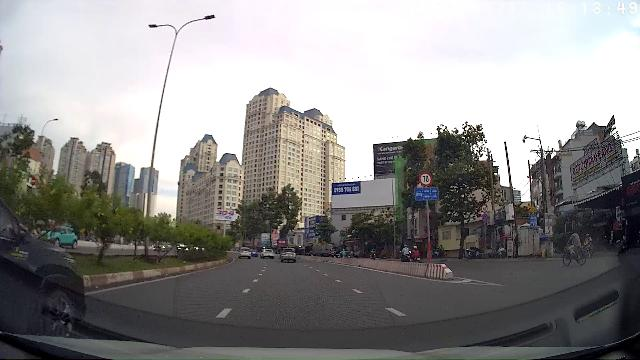127-toc-do-toi-da-70: (418, 171, 433, 187)
